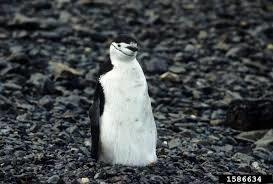chinstrap: (84, 33, 171, 171)
